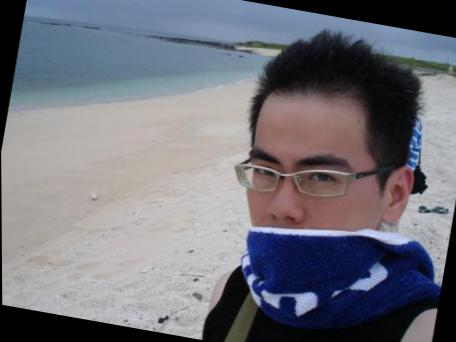WRONG: (223, 117, 376, 299)
